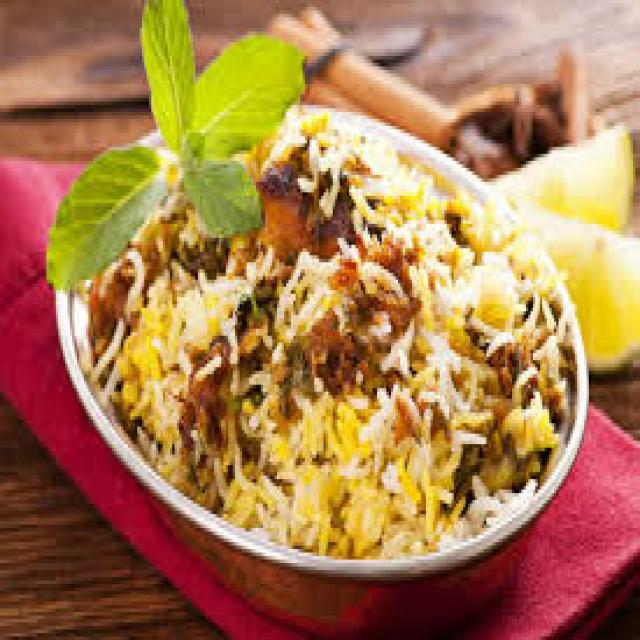Wet Waste: (111, 115, 578, 556)
